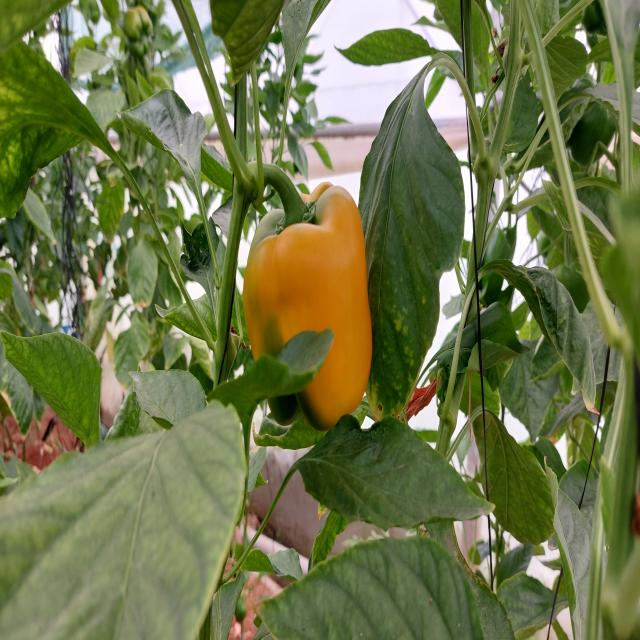Yellow-Ready-to-Harvest: (246, 185, 374, 422)
